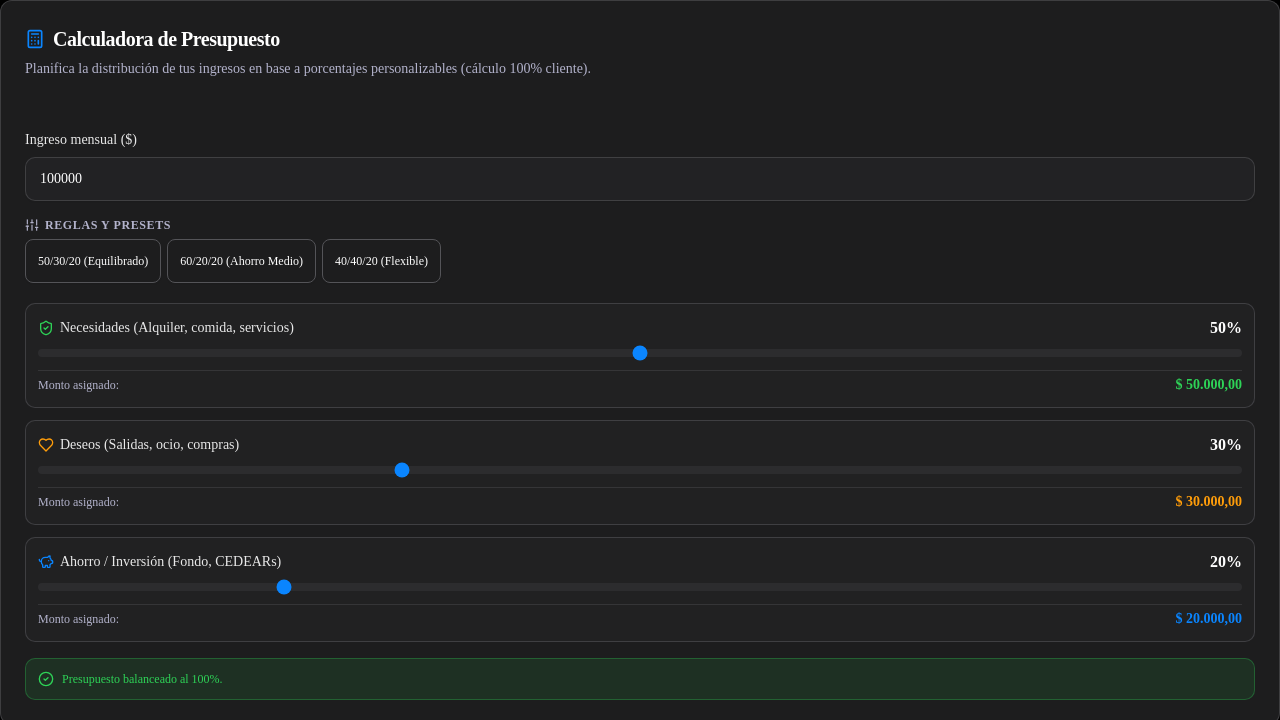
Test: BudgetCalculator › applies 60/20/20 preset when preset button is clicked
The width and height of the screenshot is (1280, 720).
Click the button "60/20/20 (Ahorro Medio)" at (242, 261), box [167,239,316,283]
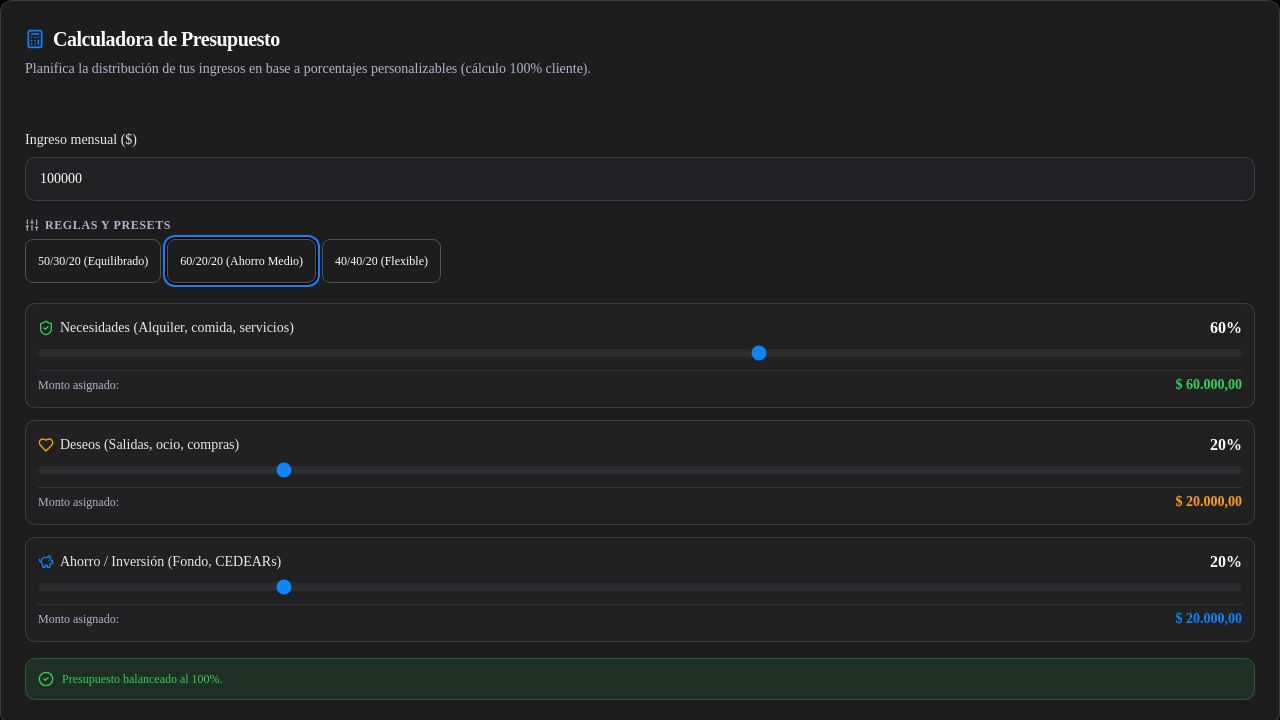
Expected: the text "$ 20.000,00" is shown 2 times, [1176,492,1242,512]; [1176,609,1242,629]
Now the text "$ 60.000,00" is shown, box [1176,375,1242,395]
